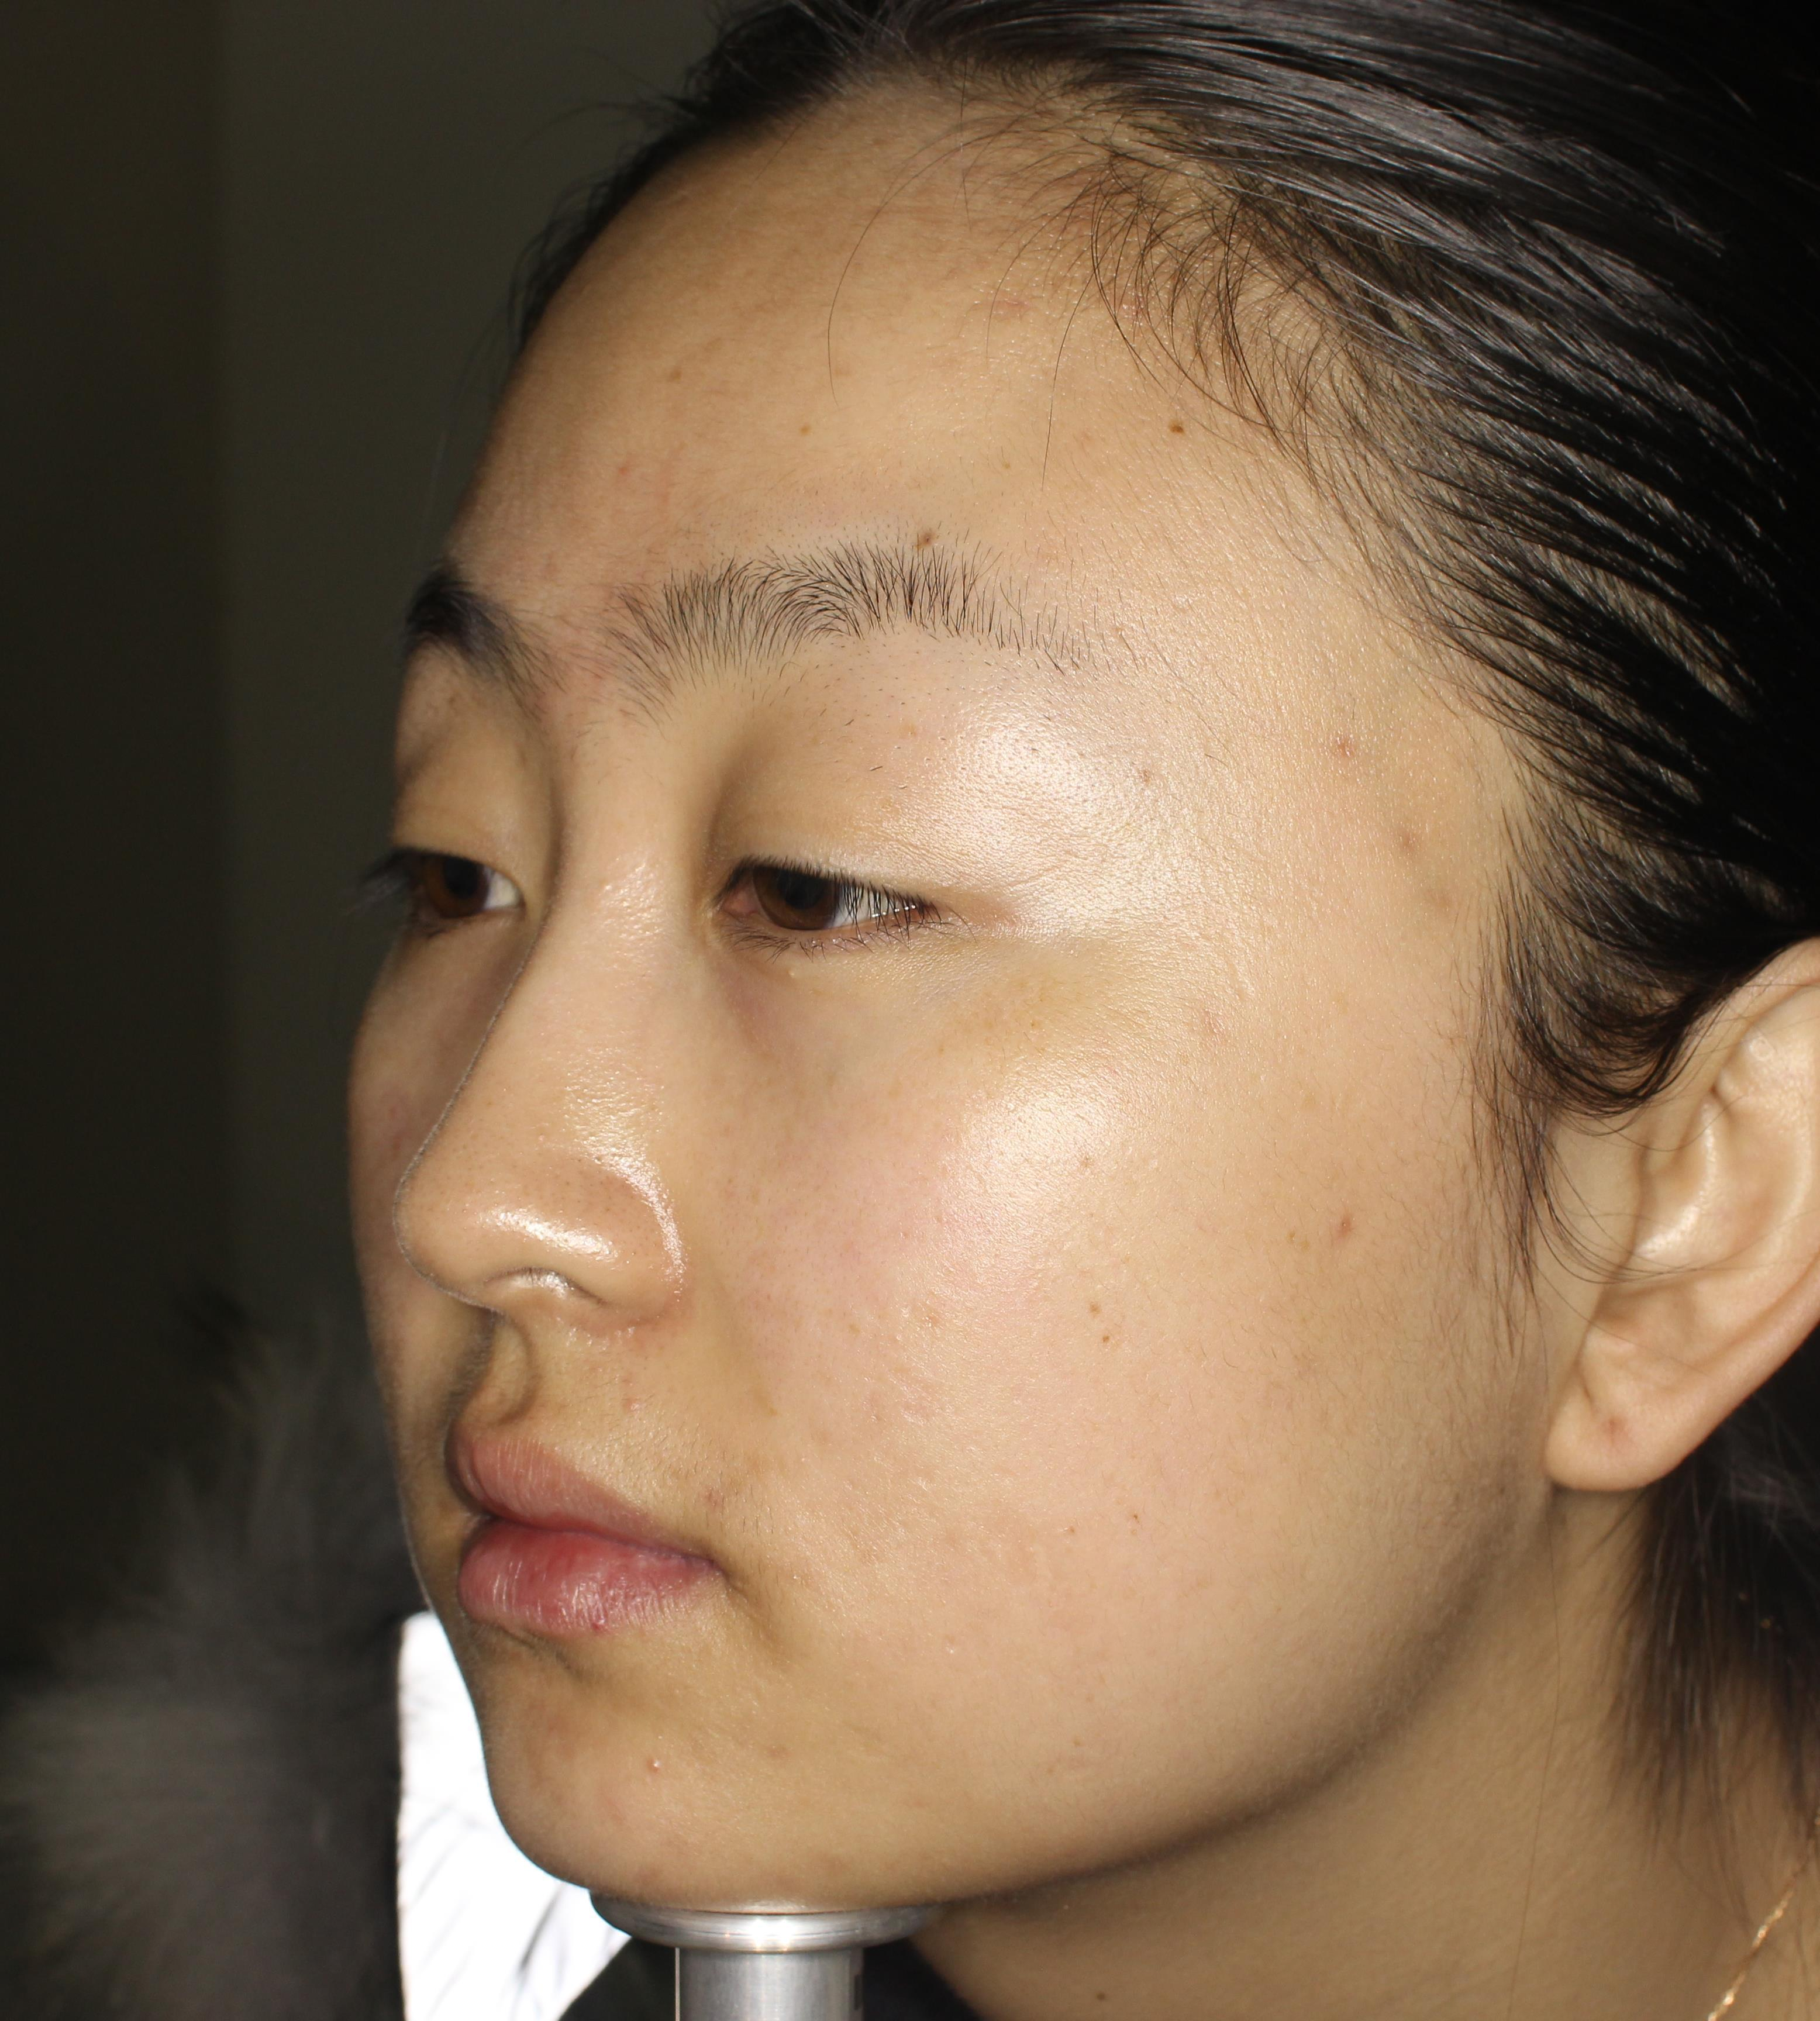fore: (611, 1733, 678, 1782)
